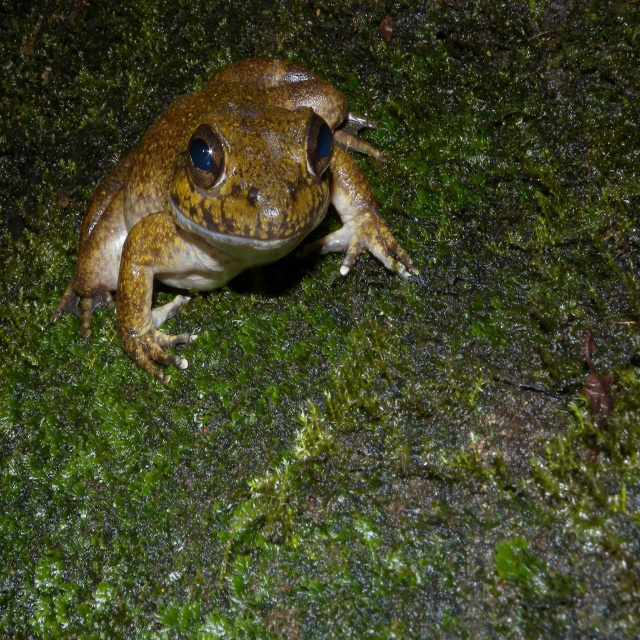Frog: (48, 53, 421, 386)
